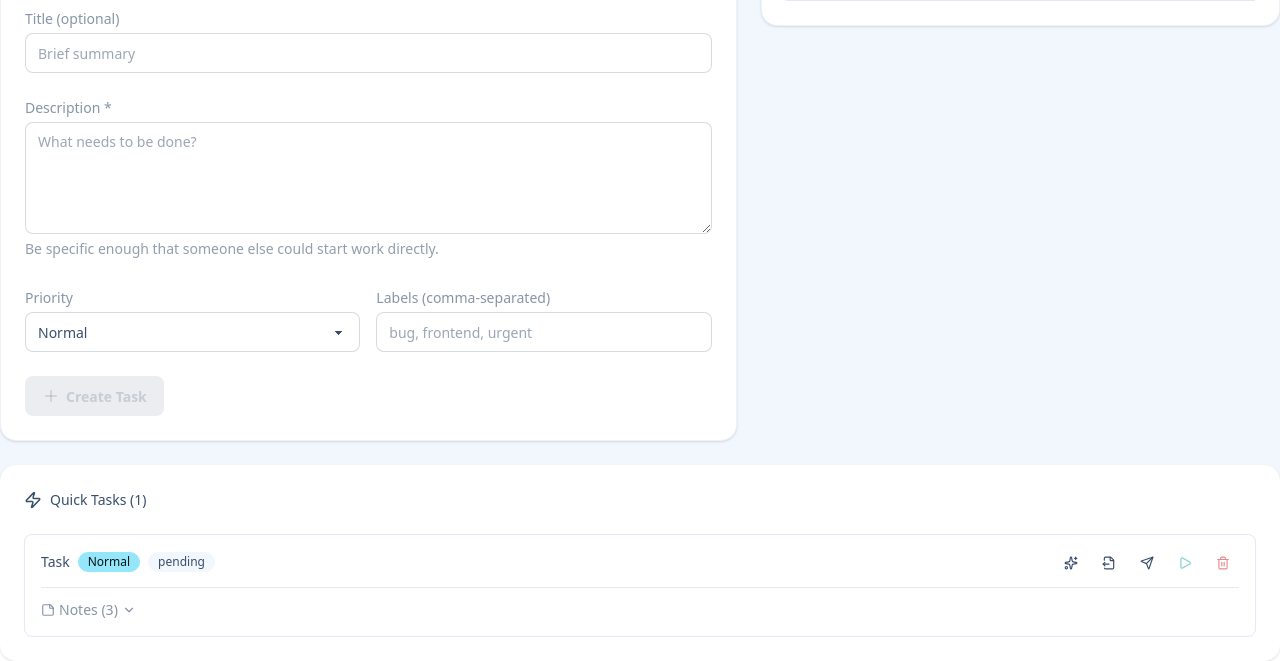
Quick page › toggles notes section for a task
This screenshot has width=1280, height=661.
(page scrolled)
Click the button "Notes (3)" at (88, 610), box [41,600,136,620]
(page scrolled)
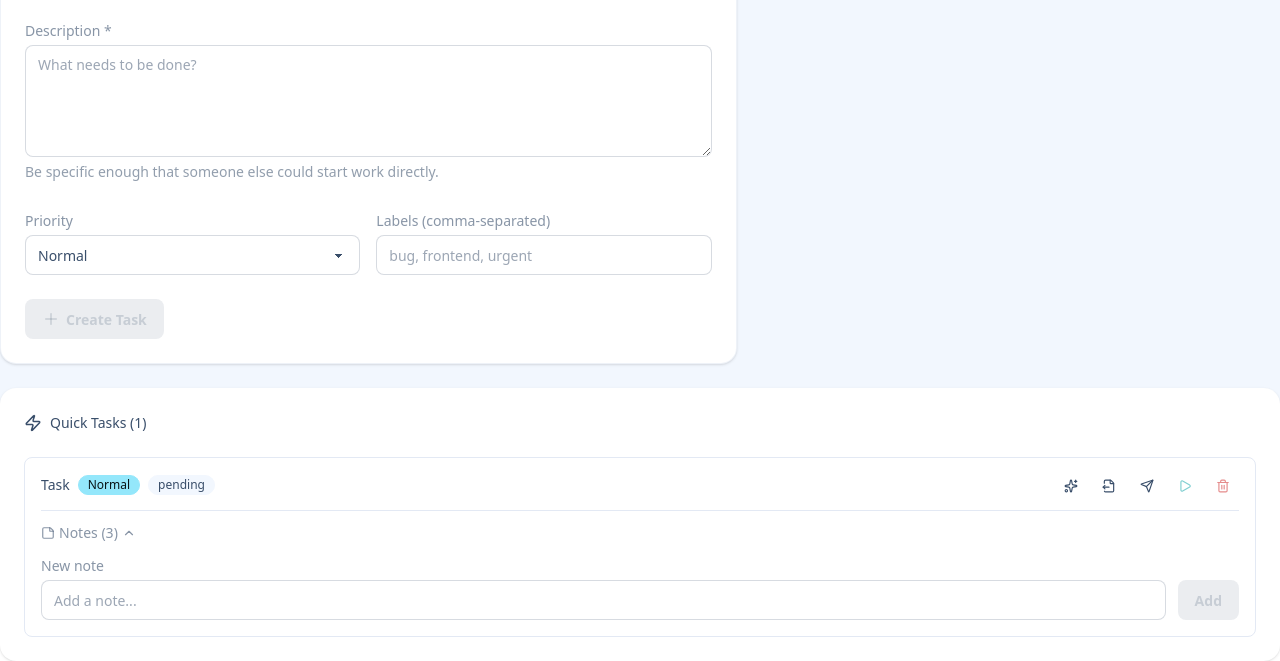
Expected: the field with placeholder "Add a note..." is shown, [41,580,1166,620]
